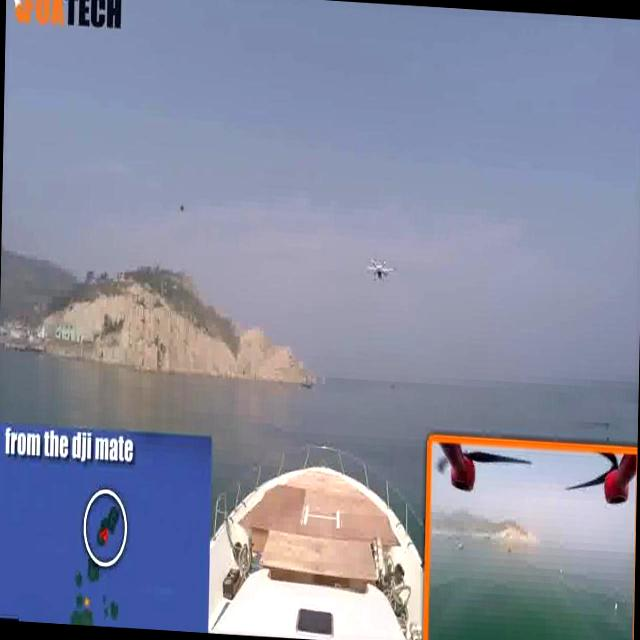drone: (362, 248, 400, 290)
